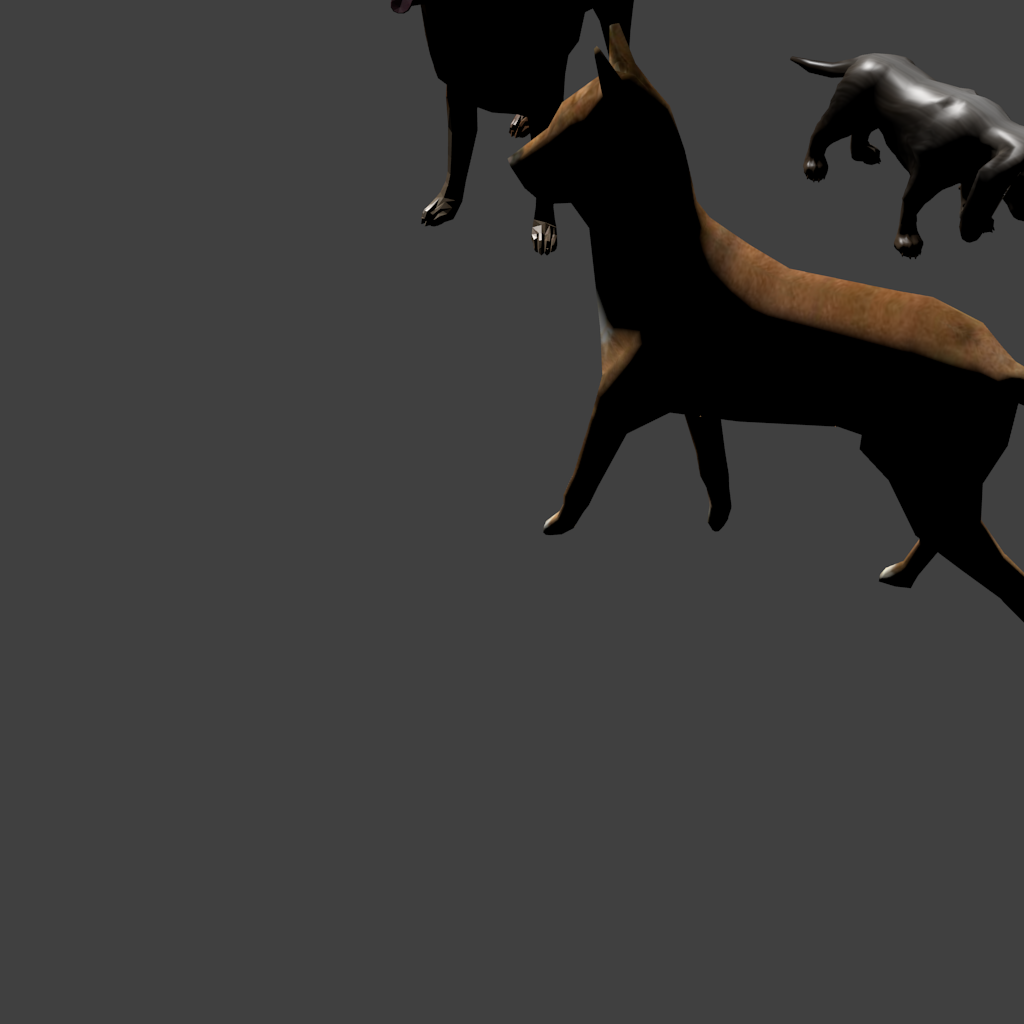Dog: (508, 23, 516, 655)
